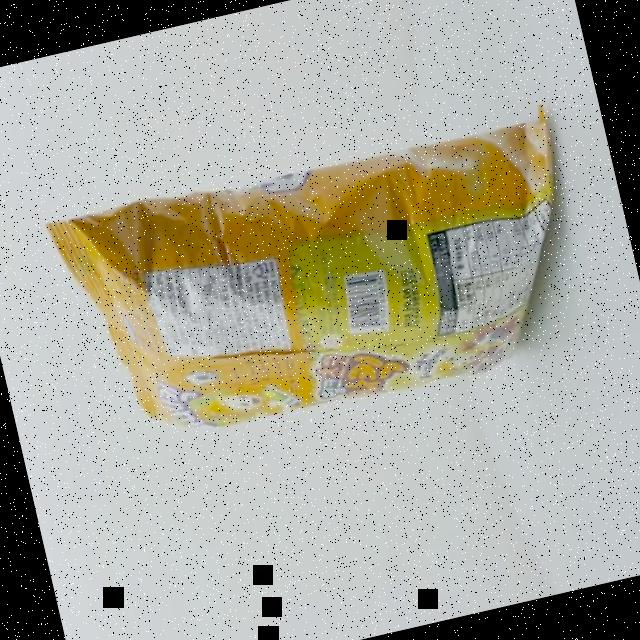snack_bag: (31, 69, 618, 477)
